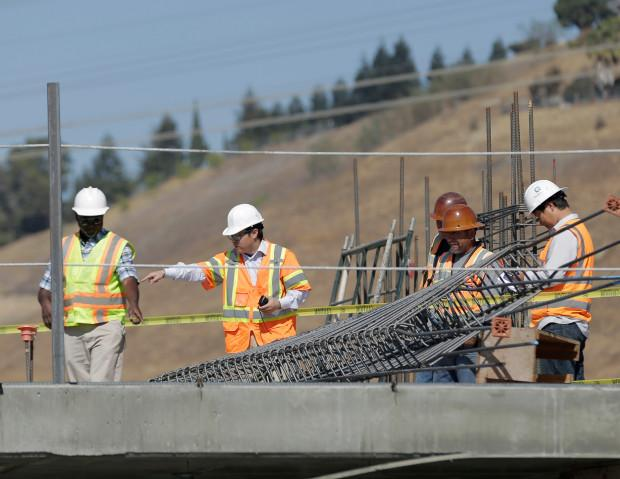helmet: (525, 179, 564, 218), (223, 204, 265, 240), (74, 187, 111, 217), (442, 208, 482, 235), (432, 190, 466, 219)
